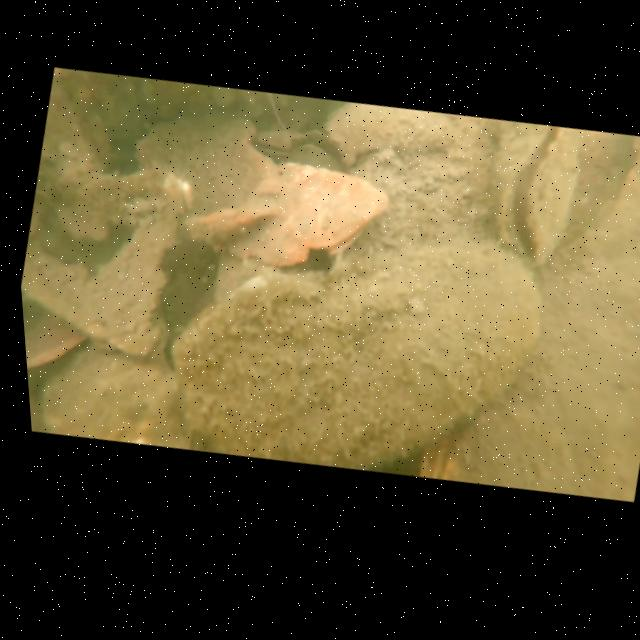Oyster-Closed: (184, 130, 400, 296)
Oyster-Indeterminate: (139, 170, 567, 526), (26, 294, 217, 467)
Oyster-Open: (480, 114, 595, 281), (242, 116, 307, 168)
